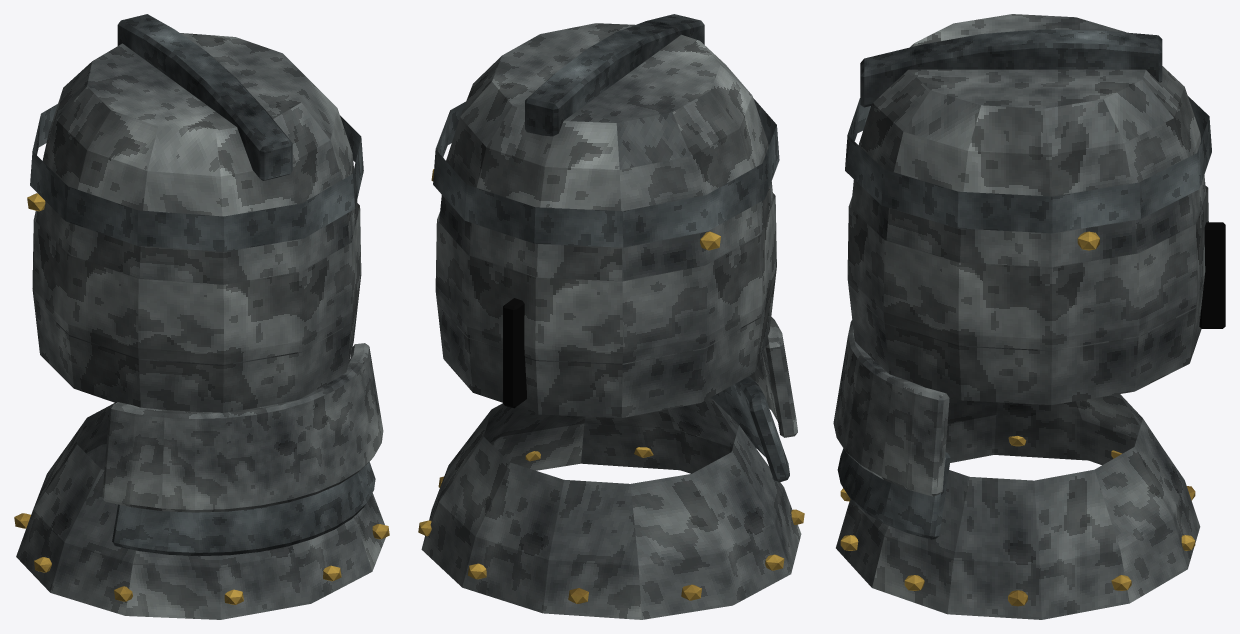
File: helmet.glb
3 renders of one model, left to right at view 1: azimuth 30°, elevation 25°; view 2: azimuth 150°, elevation 25°; view 3: azimuth 270°, elevation 25°, orthographic. The views are drawn at different scales.
Visible parts, largest first — view 1: helm_dome, helm_face, gorget, helm_neck, helm_brow, gorget_back, helm_crest; view 2: gorget, helm_dome, helm_face, helm_brow, helm_crest, gorget_back, helm_neck, helm_split; view 3: helm_dome, gorget, helm_face, helm_brow, helm_neck, helm_crest, gorget_back, helm_split.
Part boxes in pixels (x1,y1,x2,y2): helm_dome: (33, 33, 358, 365); helm_face: (32, 203, 361, 412); gorget: (16, 403, 385, 619); helm_neck: (102, 343, 383, 512); helm_brow: (30, 104, 363, 251); gorget_back: (112, 462, 375, 556); helm_crest: (117, 14, 292, 180); gorget: (421, 398, 801, 619); helm_dome: (437, 23, 775, 364); helm_face: (435, 193, 776, 418); helm_brow: (433, 98, 779, 247); helm_crest: (525, 14, 704, 136); gorget_back: (710, 376, 789, 482); helm_neck: (749, 317, 797, 437); helm_split: (503, 298, 526, 408); helm_dome: (849, 14, 1206, 351); gorget: (836, 394, 1200, 619); helm_face: (847, 186, 1208, 404); helm_brow: (845, 96, 1211, 233); helm_neck: (833, 320, 949, 496); helm_crest: (860, 29, 1162, 107); gorget_back: (837, 448, 950, 539); helm_split: (1199, 222, 1225, 328).
Bounding box in the file's own units: 0.3041 × 0.4213 × 0.2985.
4 materials, 4 textured.
